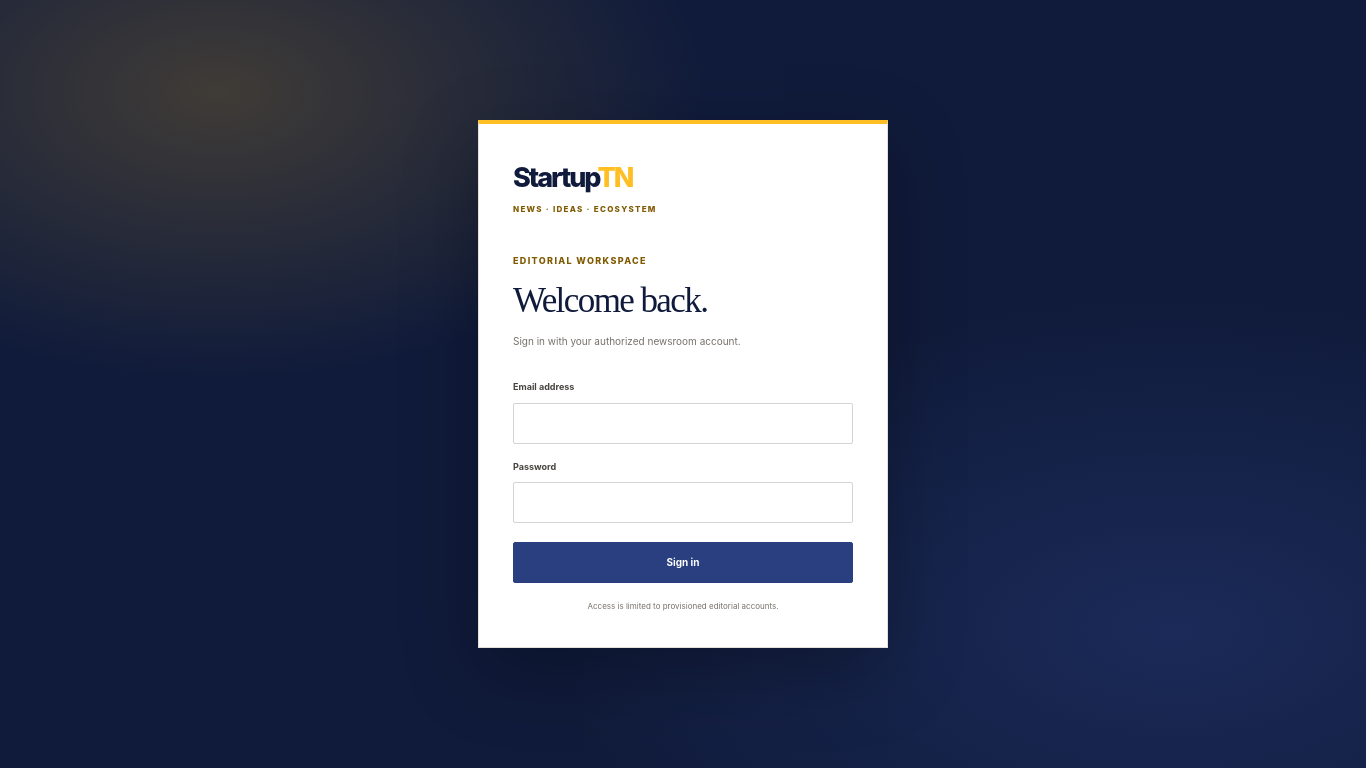
admin CMS › shows dashboard draft and published counts from the API
In the field labelled "Email address": (683, 423) [513,403,853,444], type "editor@example.com"
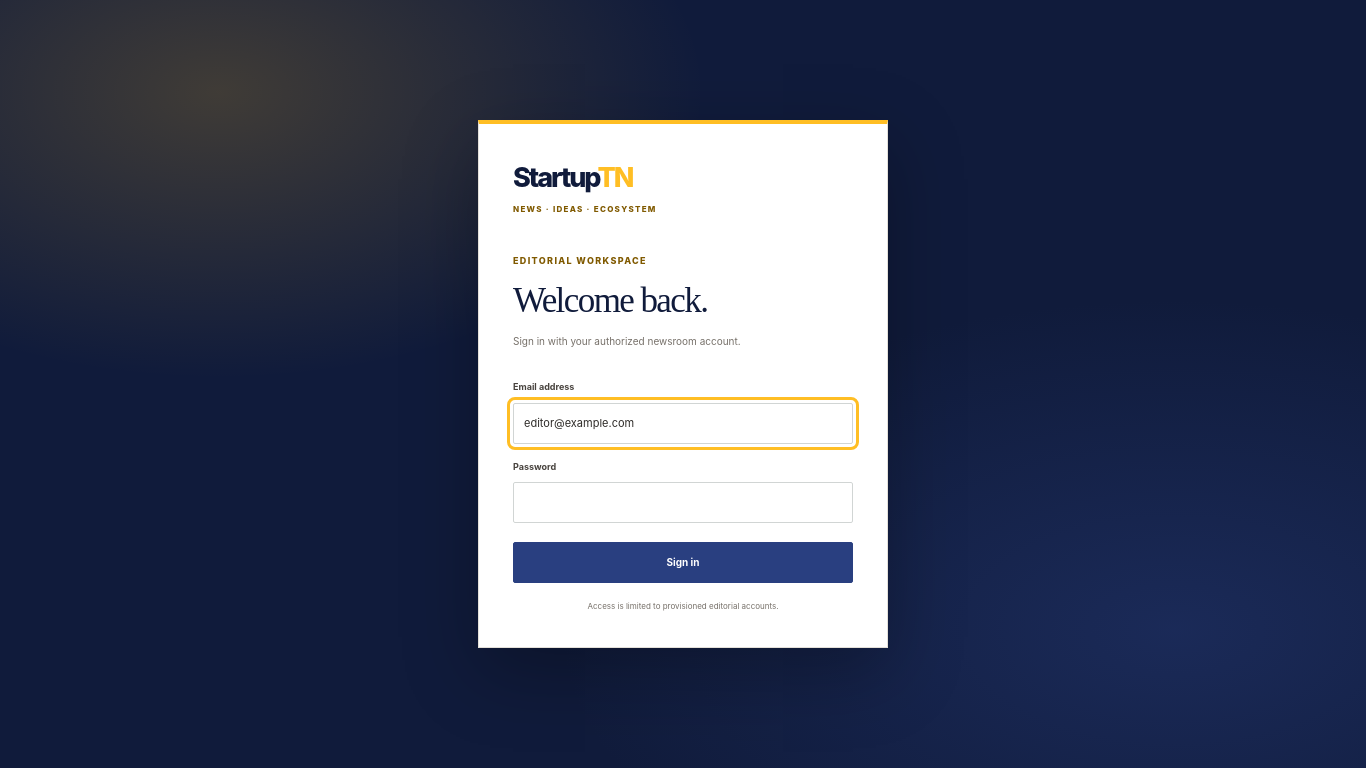
In the password field labelled "Password": (683, 503) [513,482,853,523], type "strong-password"
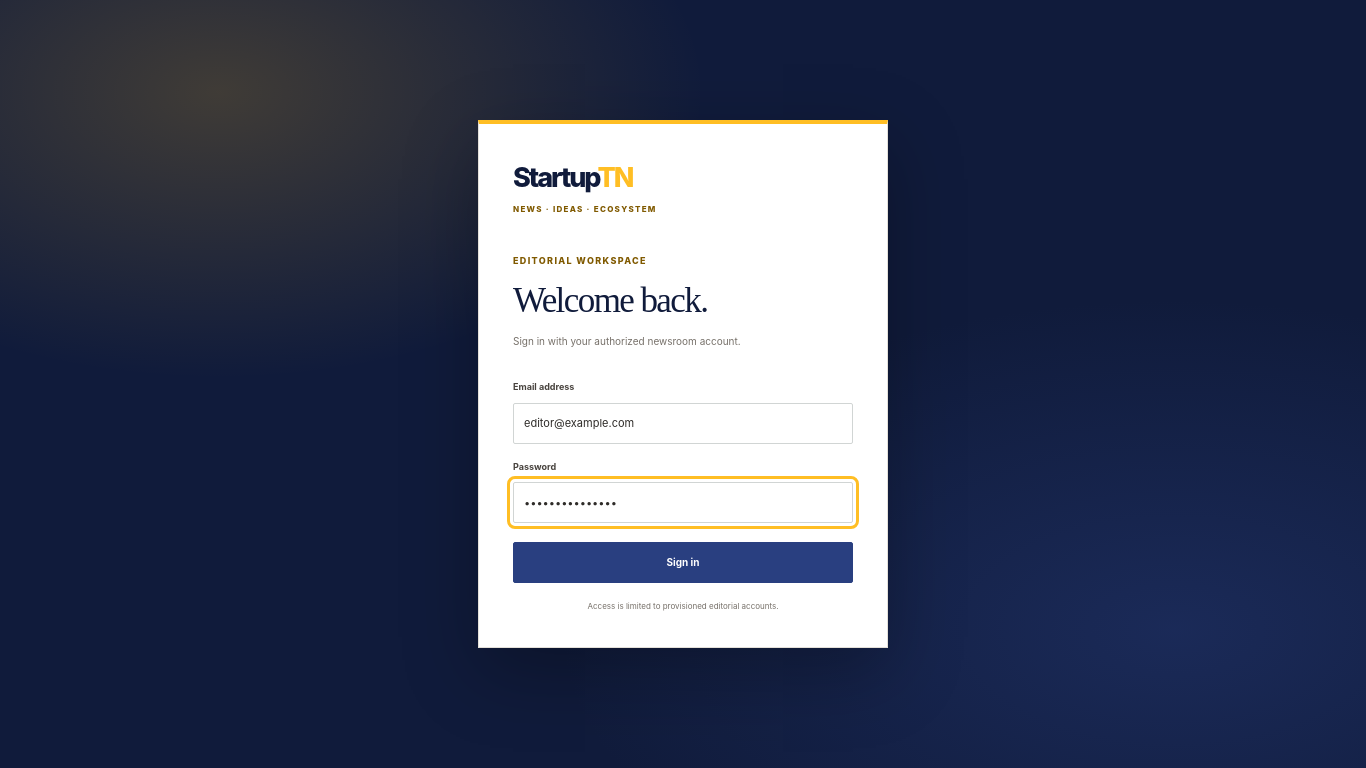
Click the button "Sign in": (683, 563) [513,542,853,583]
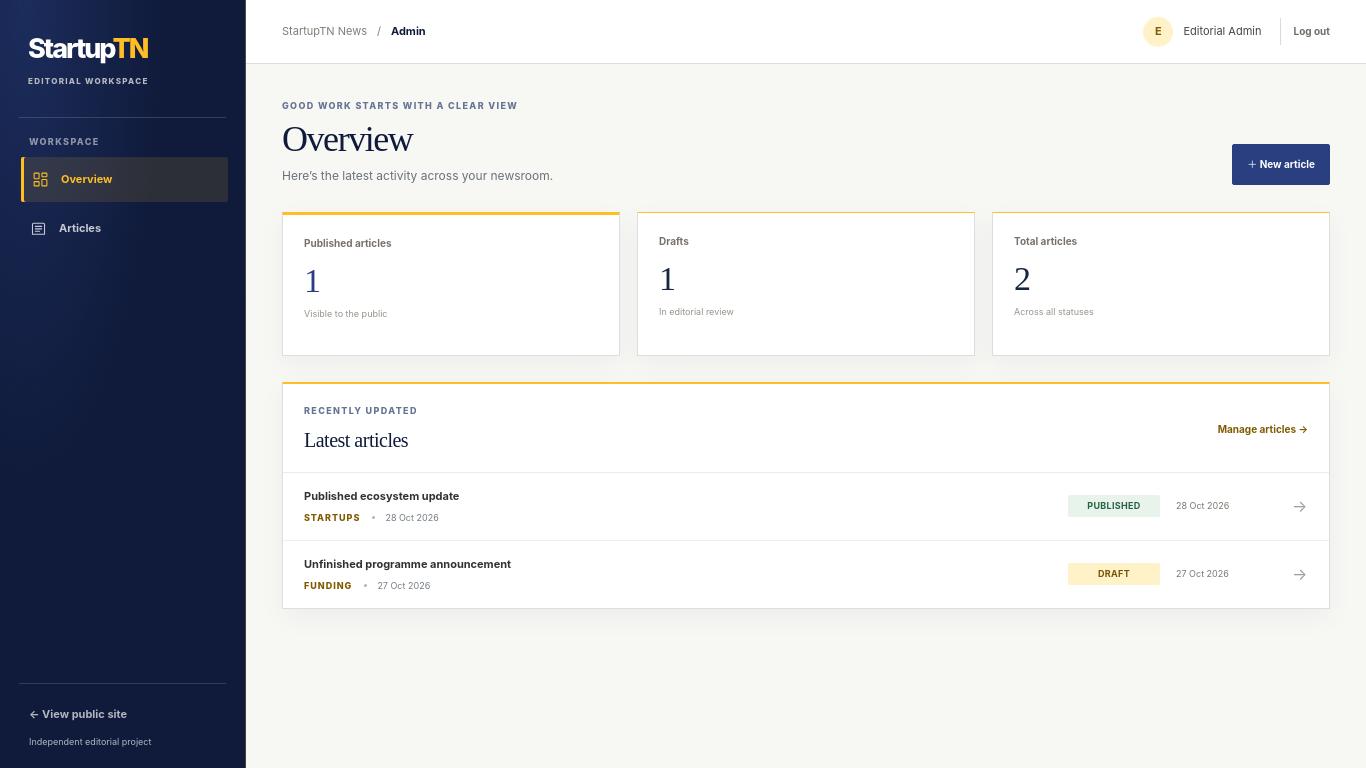
Expected: the text "Published articles" is shown, [304,236,392,251]
Expected: the text "Drafts" is shown, [659,234,689,249]
Expected: the text "2" is shown, [1014,262,1030,296]
